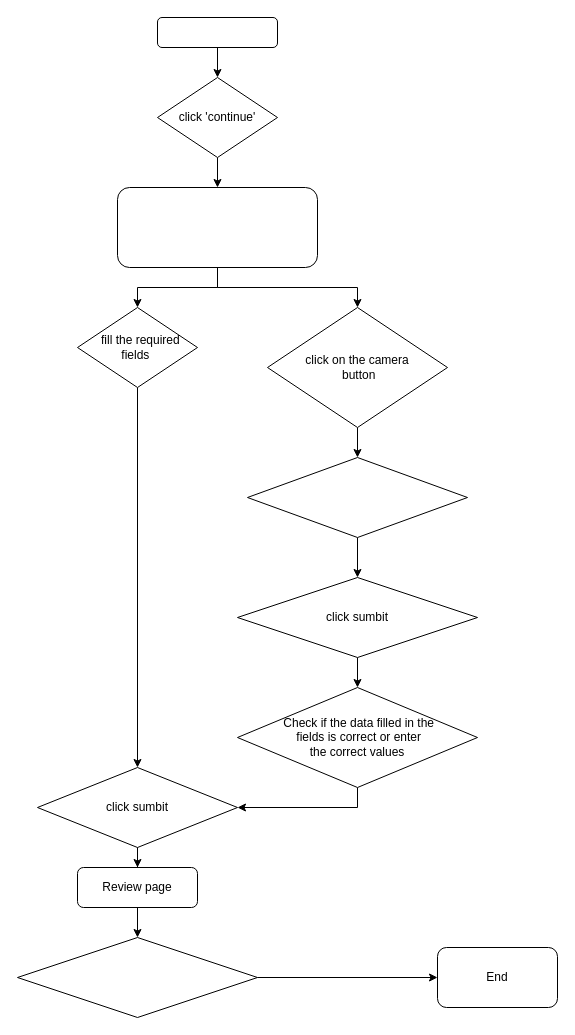
The diagram is 575 pixels wide and 1035 high, and some of its shapes have lost their labels. The centre of each missing label's shape, as x and y in pixels:
"Forms page" goes at point (217, 227).
"Home page" goes at point (217, 32).
"Review and click submit" goes at point (137, 977).
"to take picture of the document" goes at point (357, 497).
